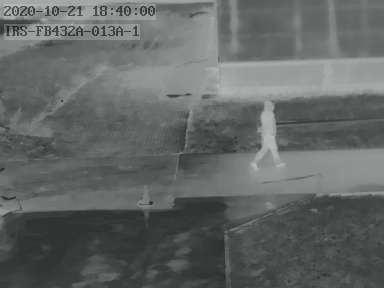person: (255, 99, 284, 165)
